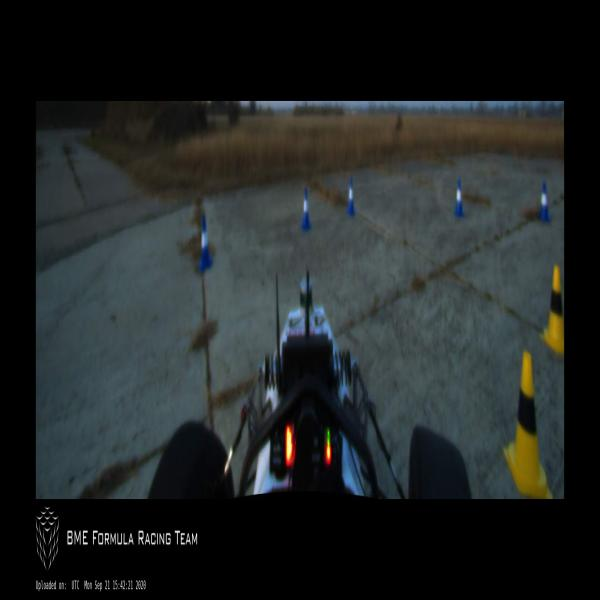blue_cone: (199, 216, 212, 272), (539, 182, 551, 223), (301, 188, 311, 232), (455, 178, 464, 217), (347, 177, 355, 216)
yellow_cone: (503, 349, 554, 499), (539, 264, 564, 355)
